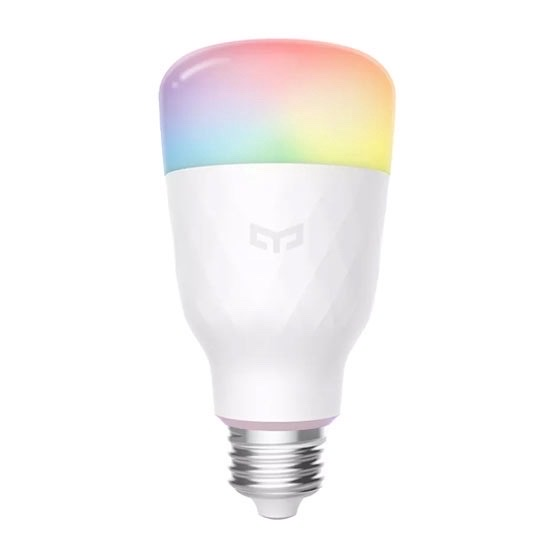Light_bulb: (152, 33, 405, 526)
